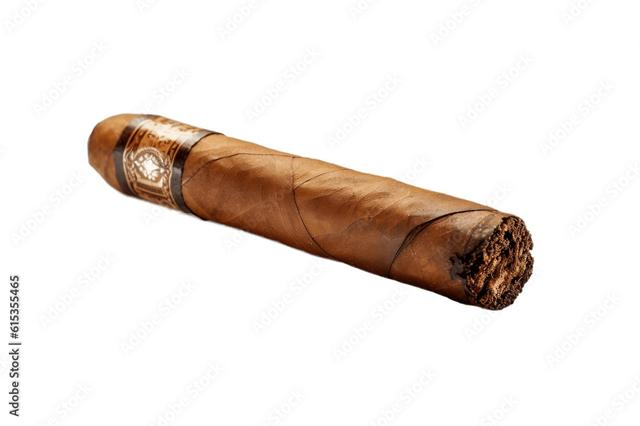Cigar: (86, 111, 534, 311)
